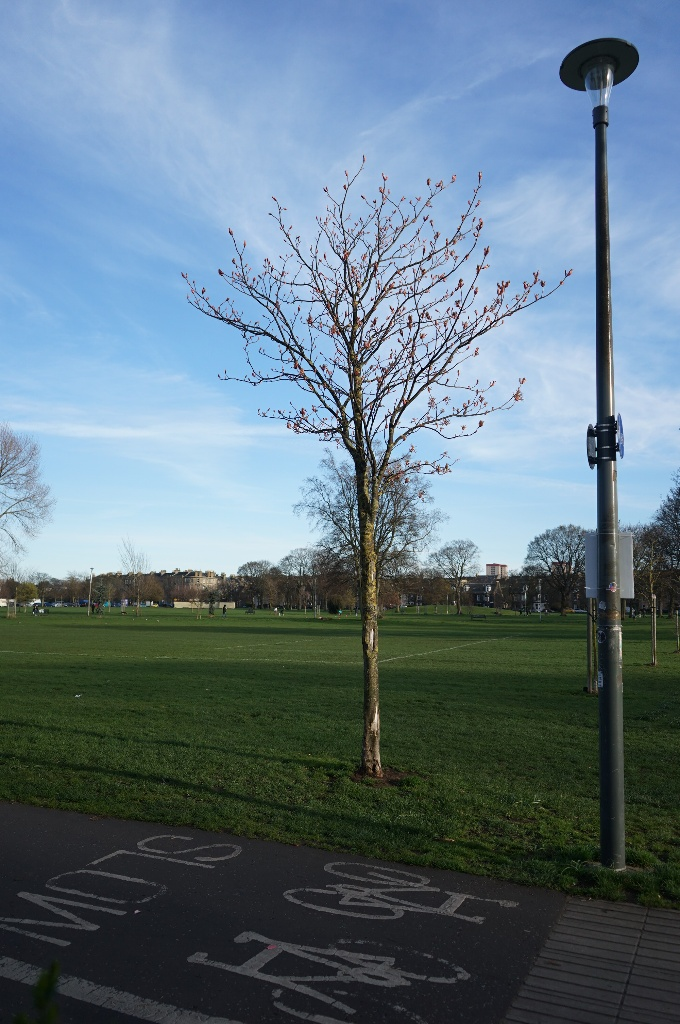Tree: (137, 123, 610, 808), (0, 404, 78, 604)
